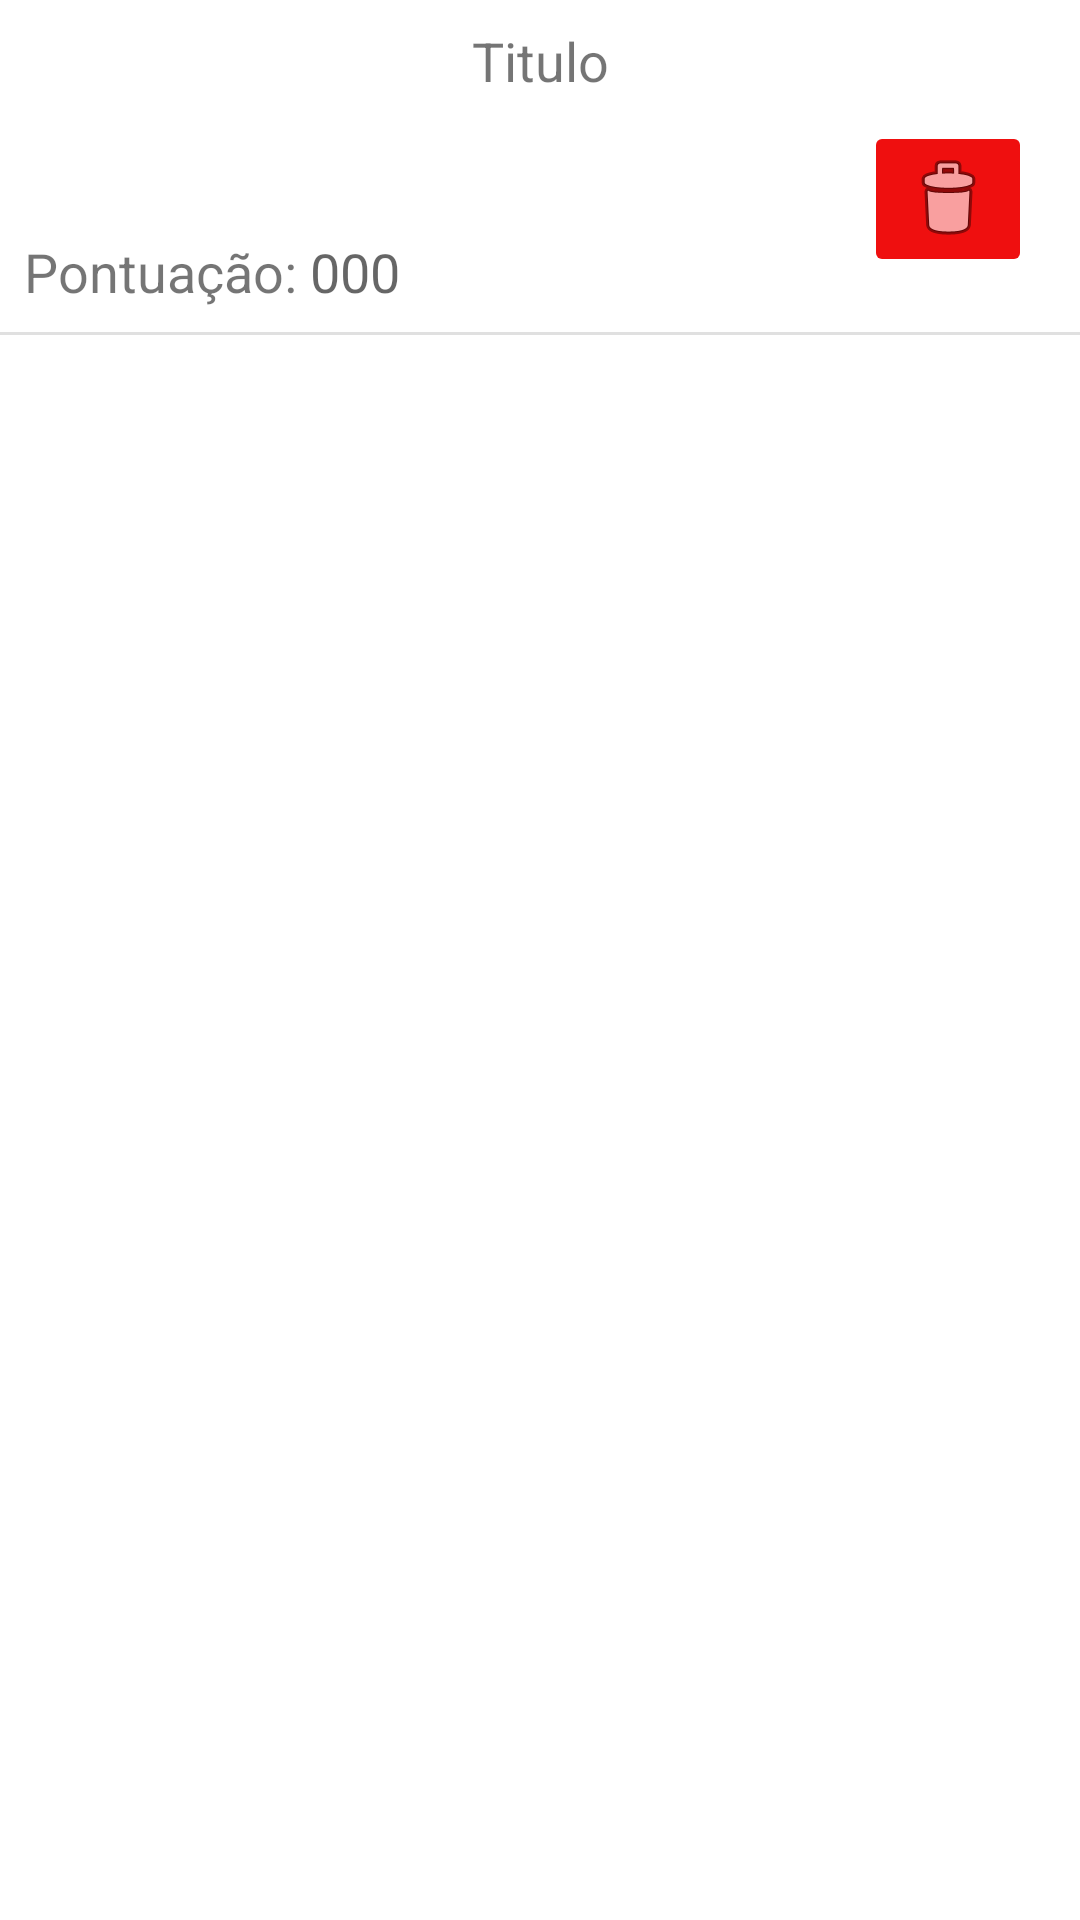

Where icons sit on this 1080*1920 app screen, as (x1, y1, x2, y2):
delete: (876, 139, 1020, 259)
